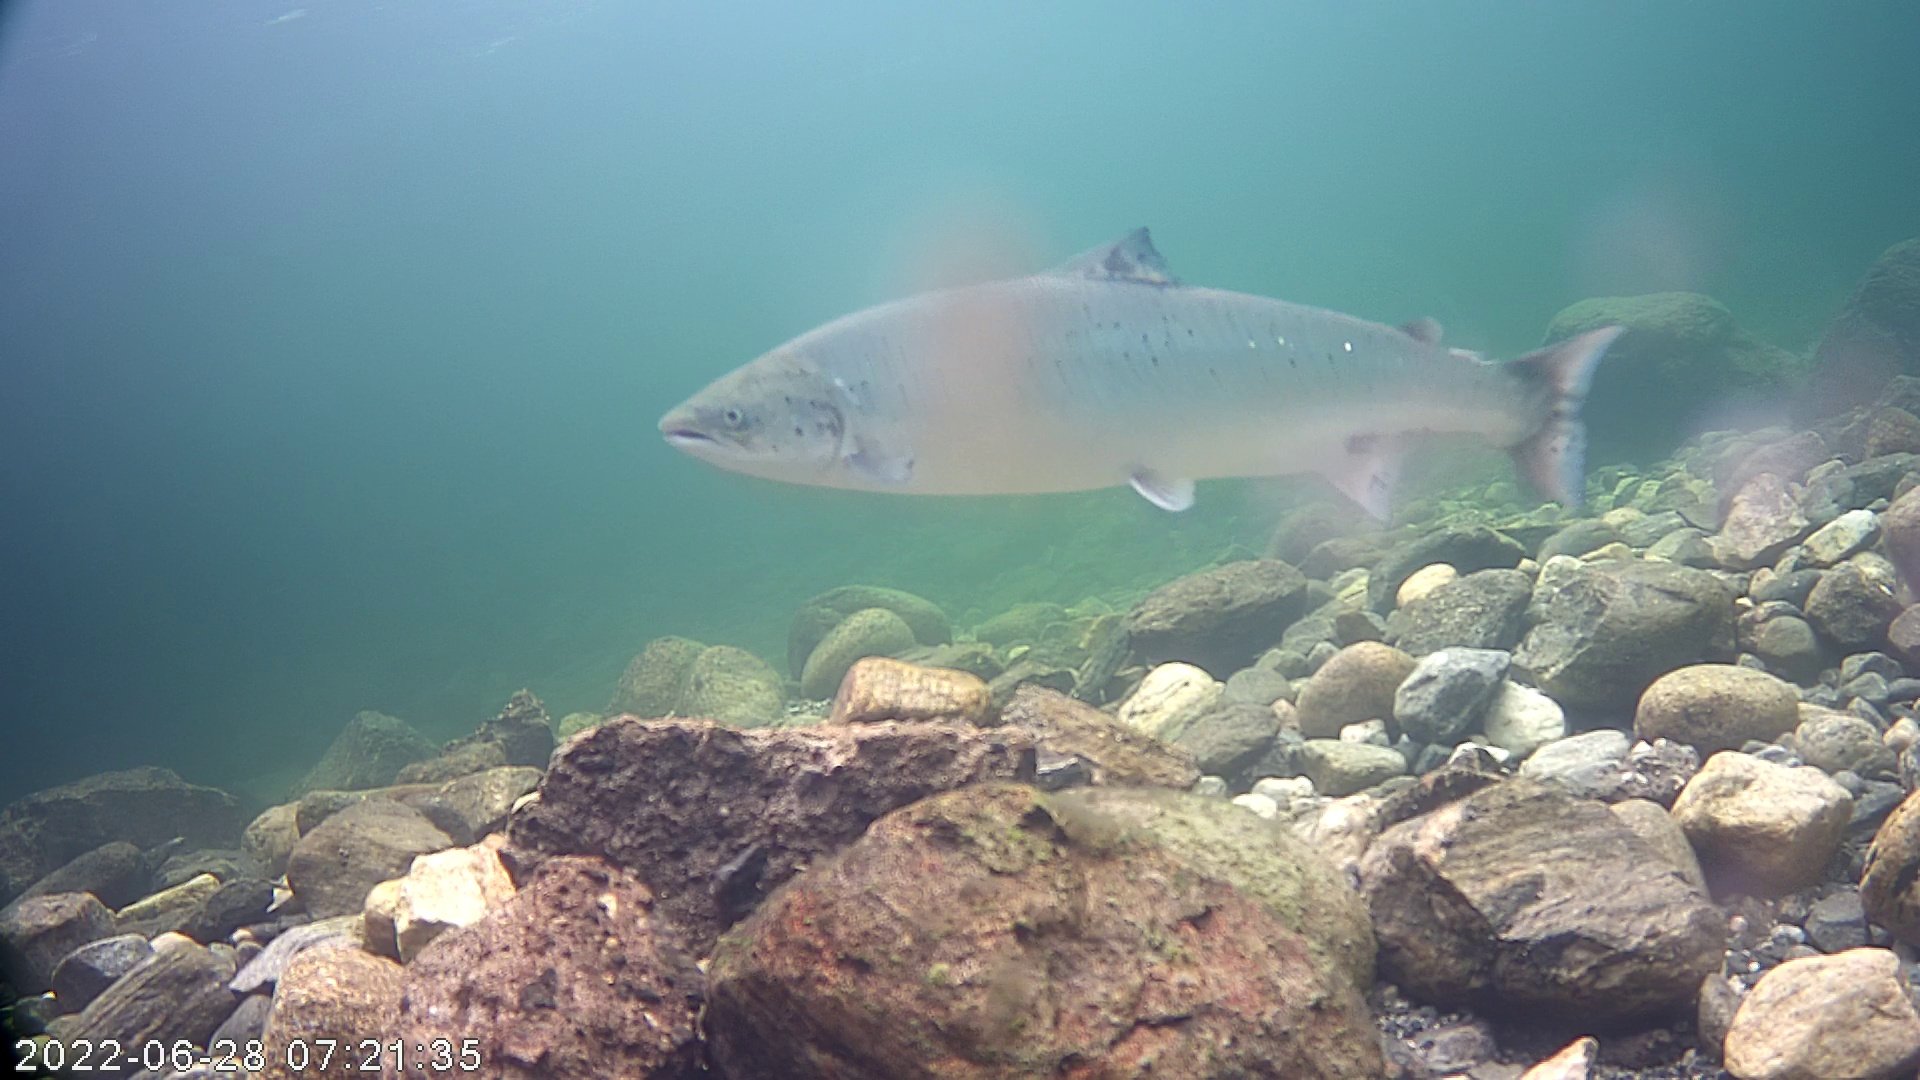salmon: (629, 137, 1646, 527)
